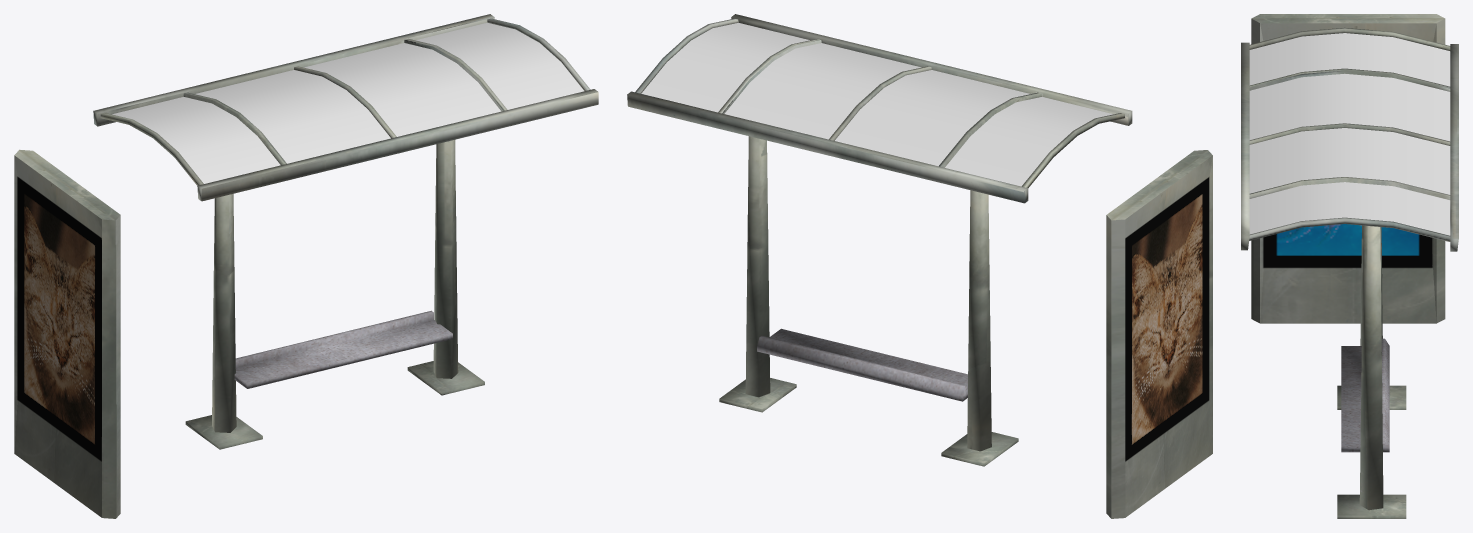
File: bus_stop_alt.glb
The picture shows the model from 3 angles, left to right: view 1: azimuth 30°, elevation 25°; view 2: azimuth 150°, elevation 25°; view 3: azimuth 270°, elevation 25°; orthographic projection.
Parts seen in each view (by area): view 1: Bus_stop_01, Bus_stop_01_; view 2: Bus_stop_01, Bus_stop_01_; view 3: Bus_stop_01, Bus_stop_01_.
Boxes of the visible parts, x1,y1,x2,y2 form: Bus_stop_01: [93, 14, 598, 449]; Bus_stop_01_: [14, 149, 120, 518]; Bus_stop_01: [627, 14, 1132, 466]; Bus_stop_01_: [1106, 150, 1212, 518]; Bus_stop_01: [1241, 27, 1458, 518]; Bus_stop_01_: [1251, 14, 1445, 323].
Size of the model in its own units: 5.1 by 3.3 by 1.96.
Materials: 2 (1 with a texture image).
